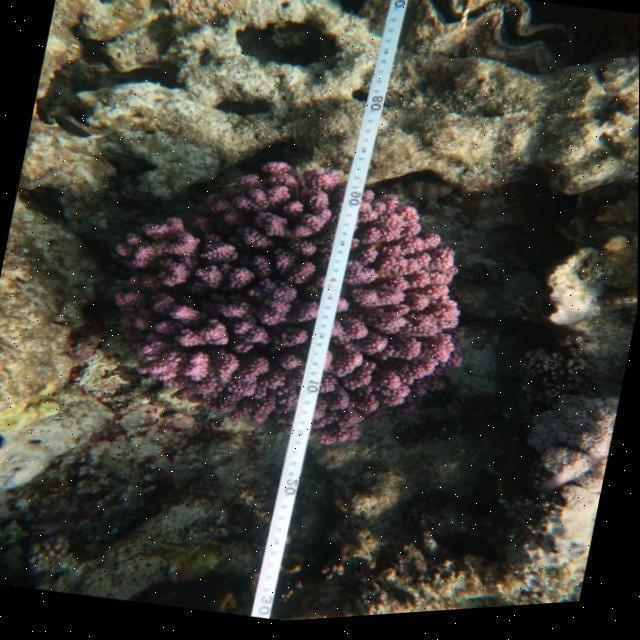Healthy Coral: (77, 121, 497, 488)
